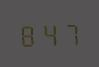eight: (18, 21, 37, 47)
four: (39, 20, 58, 46)
seven: (59, 19, 78, 45)
